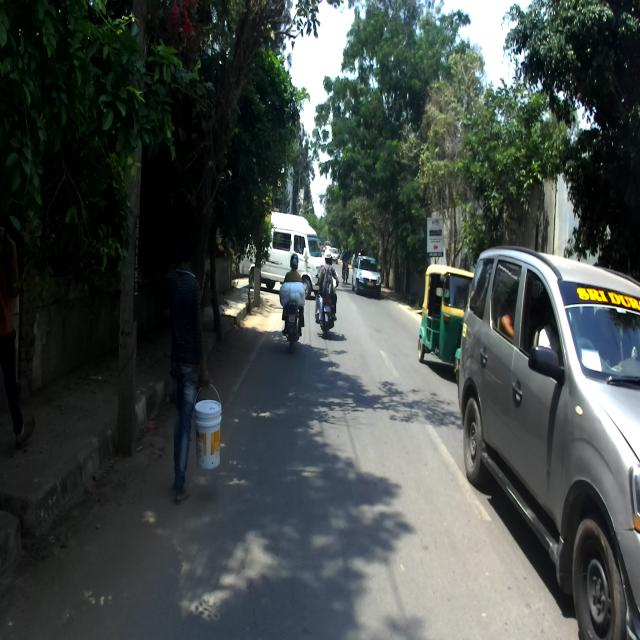car ahead at: (458, 241, 640, 640)
person ahead at: (164, 242, 224, 518)
